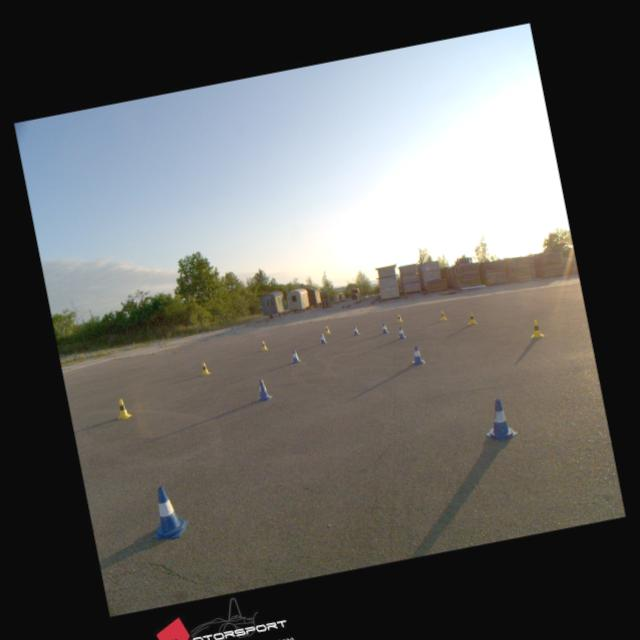blue_cone: (145, 482, 191, 542), (479, 397, 517, 442), (252, 377, 272, 402), (409, 344, 425, 364), (290, 348, 300, 364), (396, 326, 406, 339), (318, 332, 327, 344), (380, 322, 388, 334), (352, 324, 359, 334)
yellow_cone: (114, 398, 132, 420), (528, 318, 544, 339), (198, 361, 210, 375), (467, 312, 477, 324), (260, 339, 267, 352), (439, 310, 446, 320), (324, 324, 331, 334), (396, 314, 403, 322)
